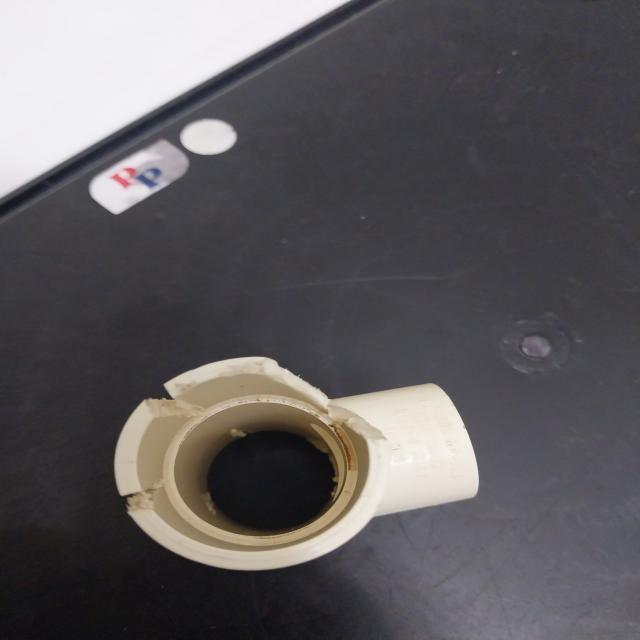Defective: (258, 350, 380, 480), (112, 363, 206, 420), (115, 479, 177, 521), (115, 479, 177, 521), (115, 479, 177, 521)
